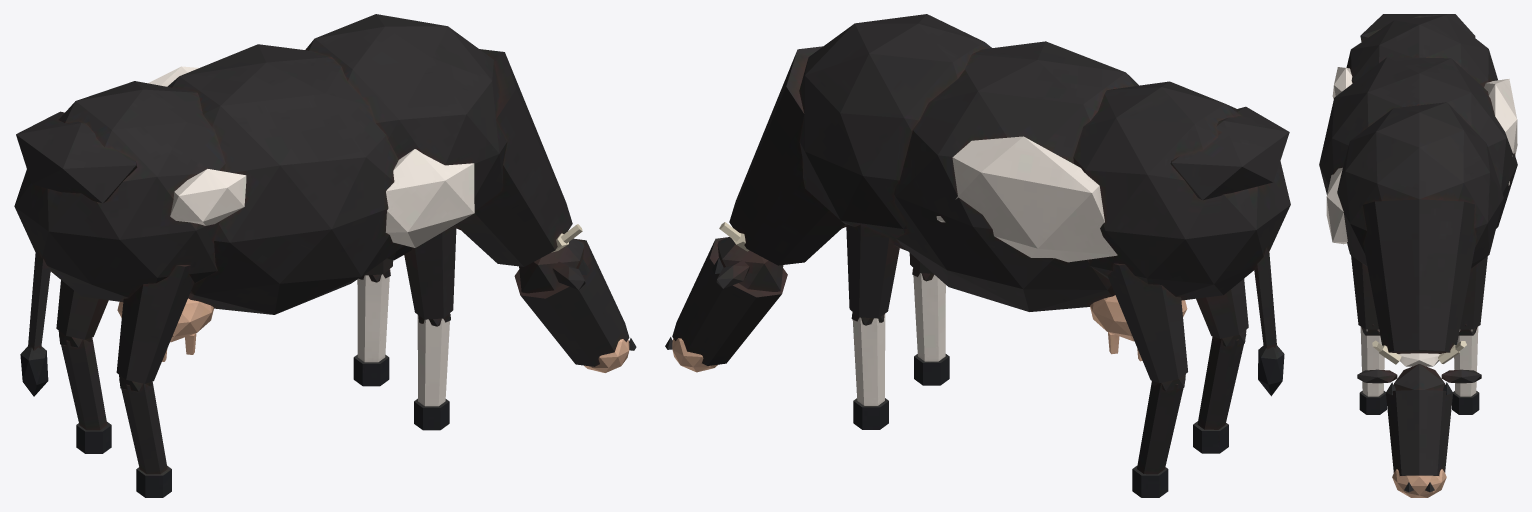
File: ko_svart_tex.glb
3 renders of one model, left to right at view 1: azimuth 30°, elevation 25°; view 2: azimuth 150°, elevation 25°; view 3: azimuth 270°, elevation 25°, orthographic. The views are drawn at different scales.
Parts seen in each view (by area): view 1: ko_svart; view 2: ko_svart; view 3: ko_svart.
Boxes of the visible parts, x1=… form: ko_svart: x1=14, y1=14, x2=636, y2=497; ko_svart: x1=665, y1=14, x2=1290, y2=497; ko_svart: x1=1319, y1=14, x2=1517, y2=497.
Size of the model in its own units: 2.56 by 1.59 by 0.9446.
Materials: 5 (4 with a texture image).
